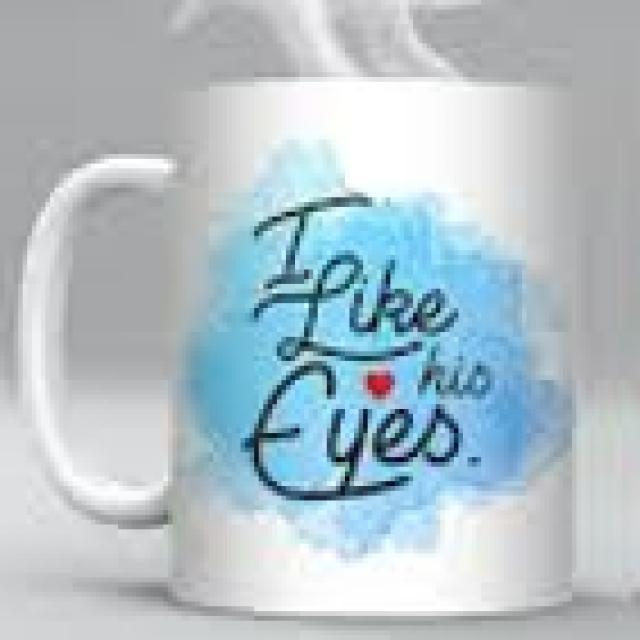taza: (16, 77, 634, 618)
